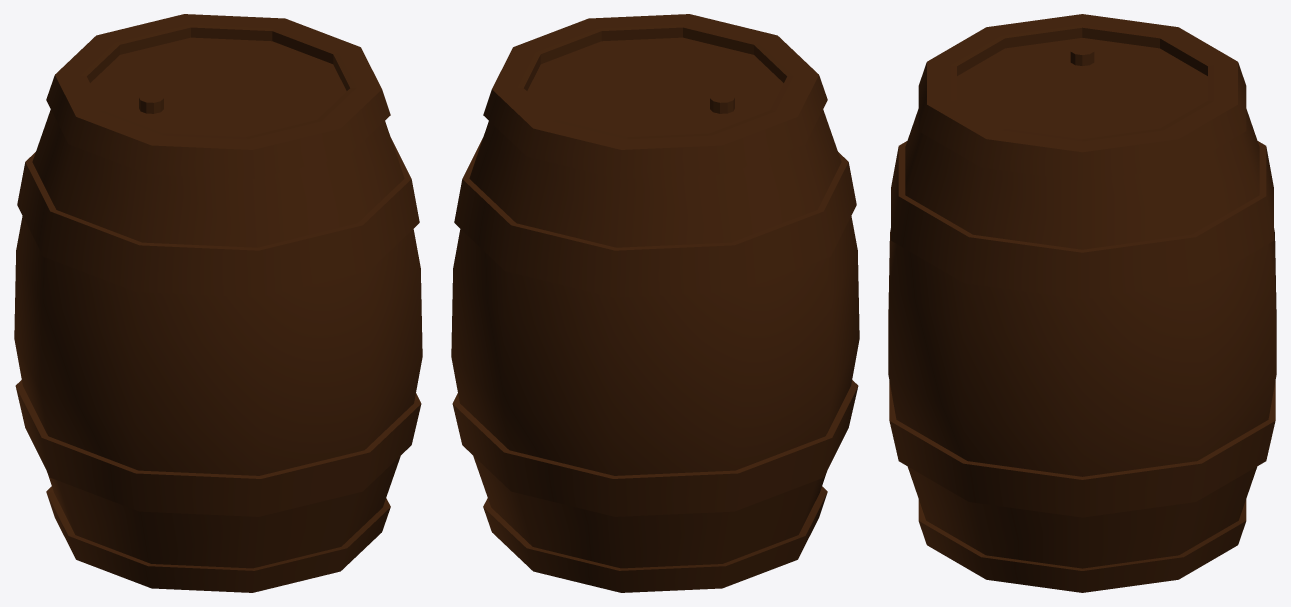
File: Barrel.fbx
3 views of the same model, side by side, from view 1: azimuth 30°, elevation 25°; view 2: azimuth 150°, elevation 25°; view 3: azimuth 270°, elevation 25° (orthographic).
Visible parts, largest first — view 1: Cylinder001; view 2: Cylinder001; view 3: Cylinder001.
Boxes of the visible parts, bbox=[...] form: Cylinder001: bbox=[14, 14, 422, 592]; Cylinder001: bbox=[451, 14, 859, 592]; Cylinder001: bbox=[888, 14, 1276, 592].
Bounding box in the file's own units: 10.16 × 12.12 × 9.67.
